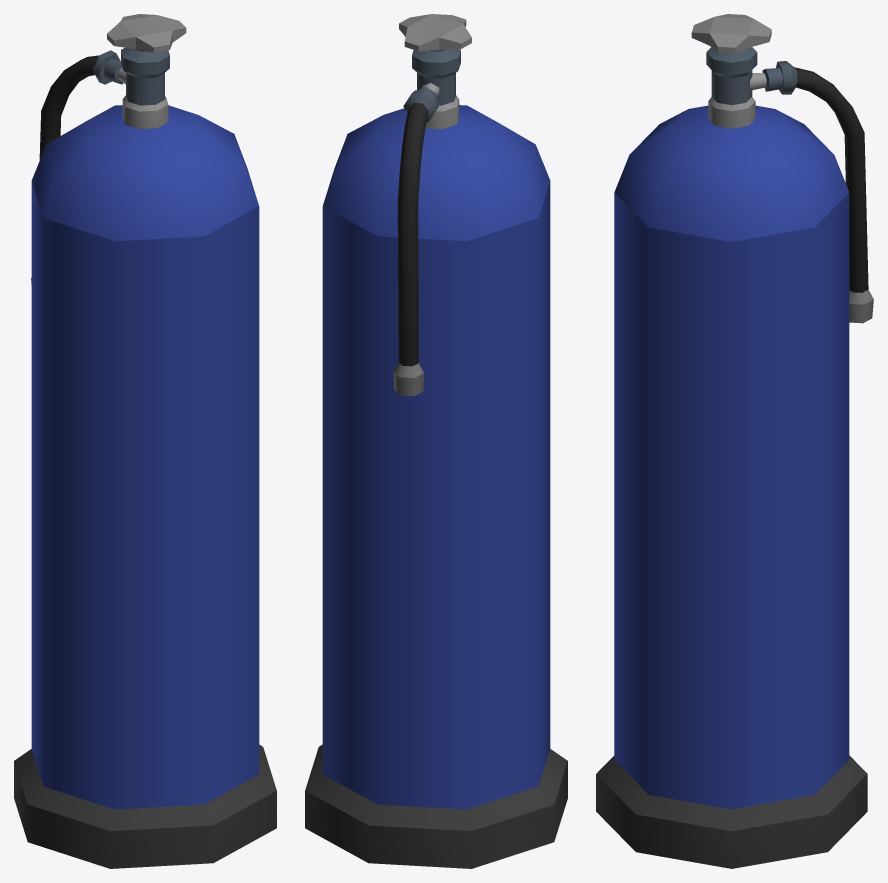
File: GasCylinder_1_1.fbx
3 views of the same model, side by side, from view 1: azimuth 30°, elevation 25°; view 2: azimuth 150°, elevation 25°; view 3: azimuth 270°, elevation 25° (orthographic).
Parts seen in each view (by area): view 1: GasCylinder_1_1; view 2: GasCylinder_1_1; view 3: GasCylinder_1_1.
Part boxes in pixels (bbox=[...]): GasCylinder_1_1: bbox=[14, 14, 276, 868]; GasCylinder_1_1: bbox=[305, 14, 567, 868]; GasCylinder_1_1: bbox=[596, 14, 873, 868].
Bounding box in the file's own units: 27.47 × 87.73 × 28.1.
